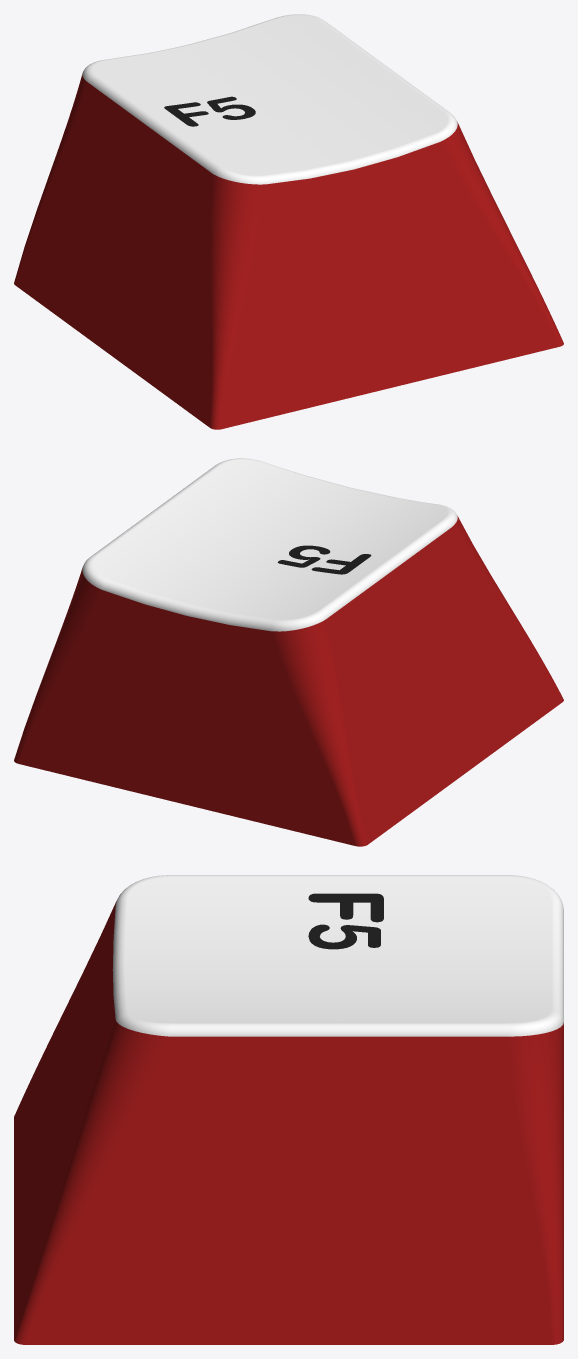
The picture shows the model from 3 angles, top to bottom: view 1: azimuth 30°, elevation 25°; view 2: azimuth 150°, elevation 25°; view 3: azimuth 270°, elevation 25°; orthographic projection. The views are drawn at different scales.
Visible parts, largest first — view 1: Body1; view 2: Body1; view 3: Body1.
Boxes of the visible parts, x1=… form: Body1: x1=14, y1=14, x2=563, y2=429; Body1: x1=14, y1=458, x2=563, y2=846; Body1: x1=14, y1=875, x2=563, y2=1344.
Bounding box in the file's own units: 18 × 10.07 × 18.
